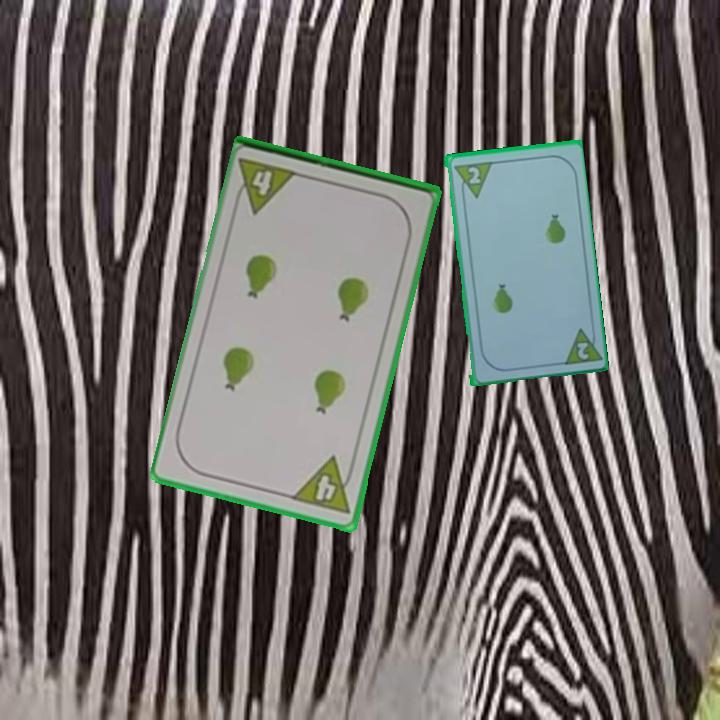2p: (558, 322, 602, 367), (464, 163, 483, 186)
4p: (288, 453, 359, 518), (230, 154, 301, 216)
